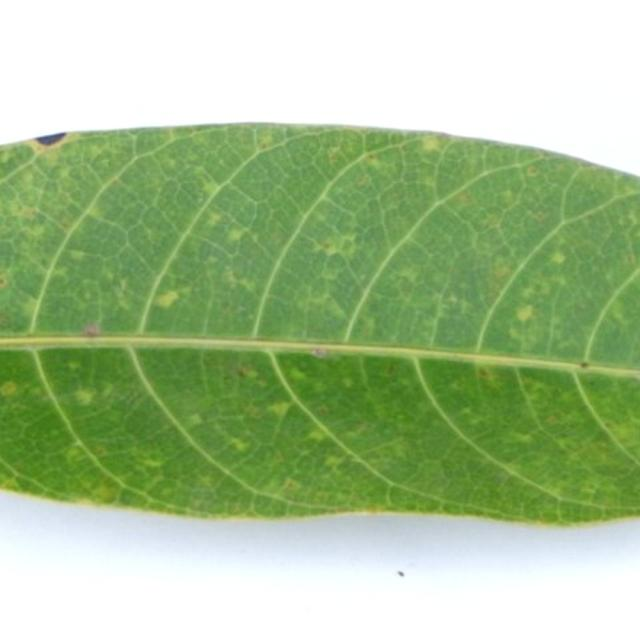Mango: (0, 124, 639, 523)
Powdery_Mildew: (431, 290, 477, 325), (315, 292, 349, 321), (151, 290, 188, 310), (7, 198, 37, 221), (111, 277, 133, 308), (18, 294, 43, 321), (232, 274, 259, 295), (357, 316, 377, 339), (396, 265, 421, 283), (82, 202, 105, 221), (266, 400, 291, 417), (73, 388, 96, 406), (93, 483, 116, 501), (482, 212, 504, 230), (320, 241, 343, 258), (515, 304, 535, 323), (306, 427, 330, 442), (65, 445, 86, 462), (228, 437, 251, 452), (421, 135, 441, 152), (201, 180, 221, 197), (509, 431, 535, 444), (226, 227, 247, 243), (257, 131, 275, 149), (0, 380, 19, 397), (141, 454, 164, 468), (287, 366, 307, 382), (281, 477, 301, 492), (328, 145, 345, 162), (493, 263, 511, 279), (323, 455, 345, 468), (185, 413, 203, 428), (2, 476, 21, 490), (355, 172, 372, 187), (83, 323, 101, 337), (68, 249, 87, 261), (550, 250, 566, 264), (311, 380, 328, 393), (237, 365, 254, 378), (525, 164, 540, 178), (365, 153, 382, 165), (622, 251, 636, 265), (312, 347, 329, 358), (478, 367, 492, 380), (0, 311, 12, 326), (66, 360, 80, 370), (342, 376, 354, 387)
